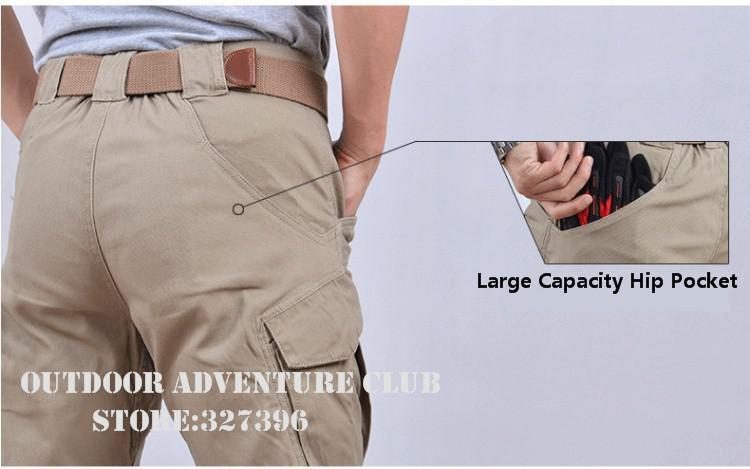pants: (5, 45, 376, 469)
